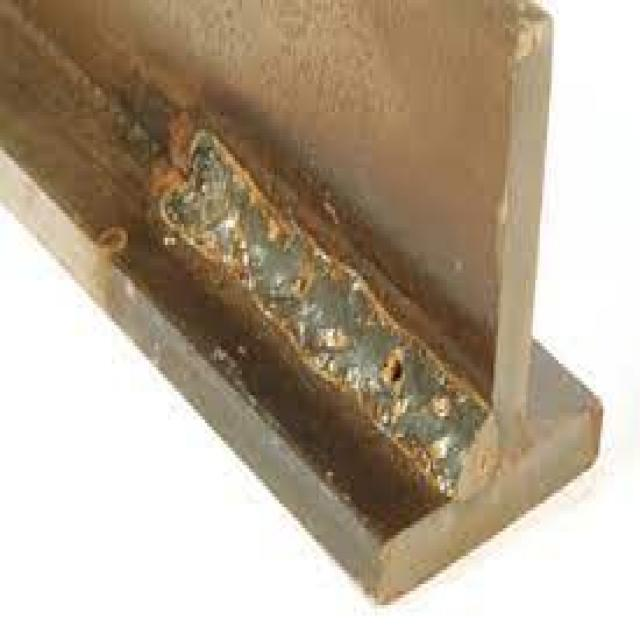Bad Weld: (148, 119, 494, 504)
Defect: (374, 346, 410, 388)
